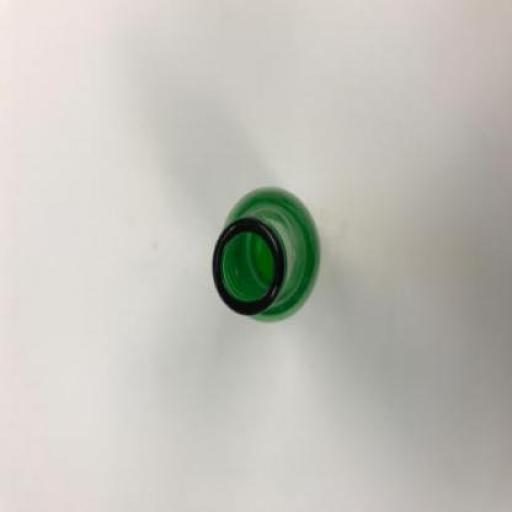glass: (211, 185, 319, 323)
